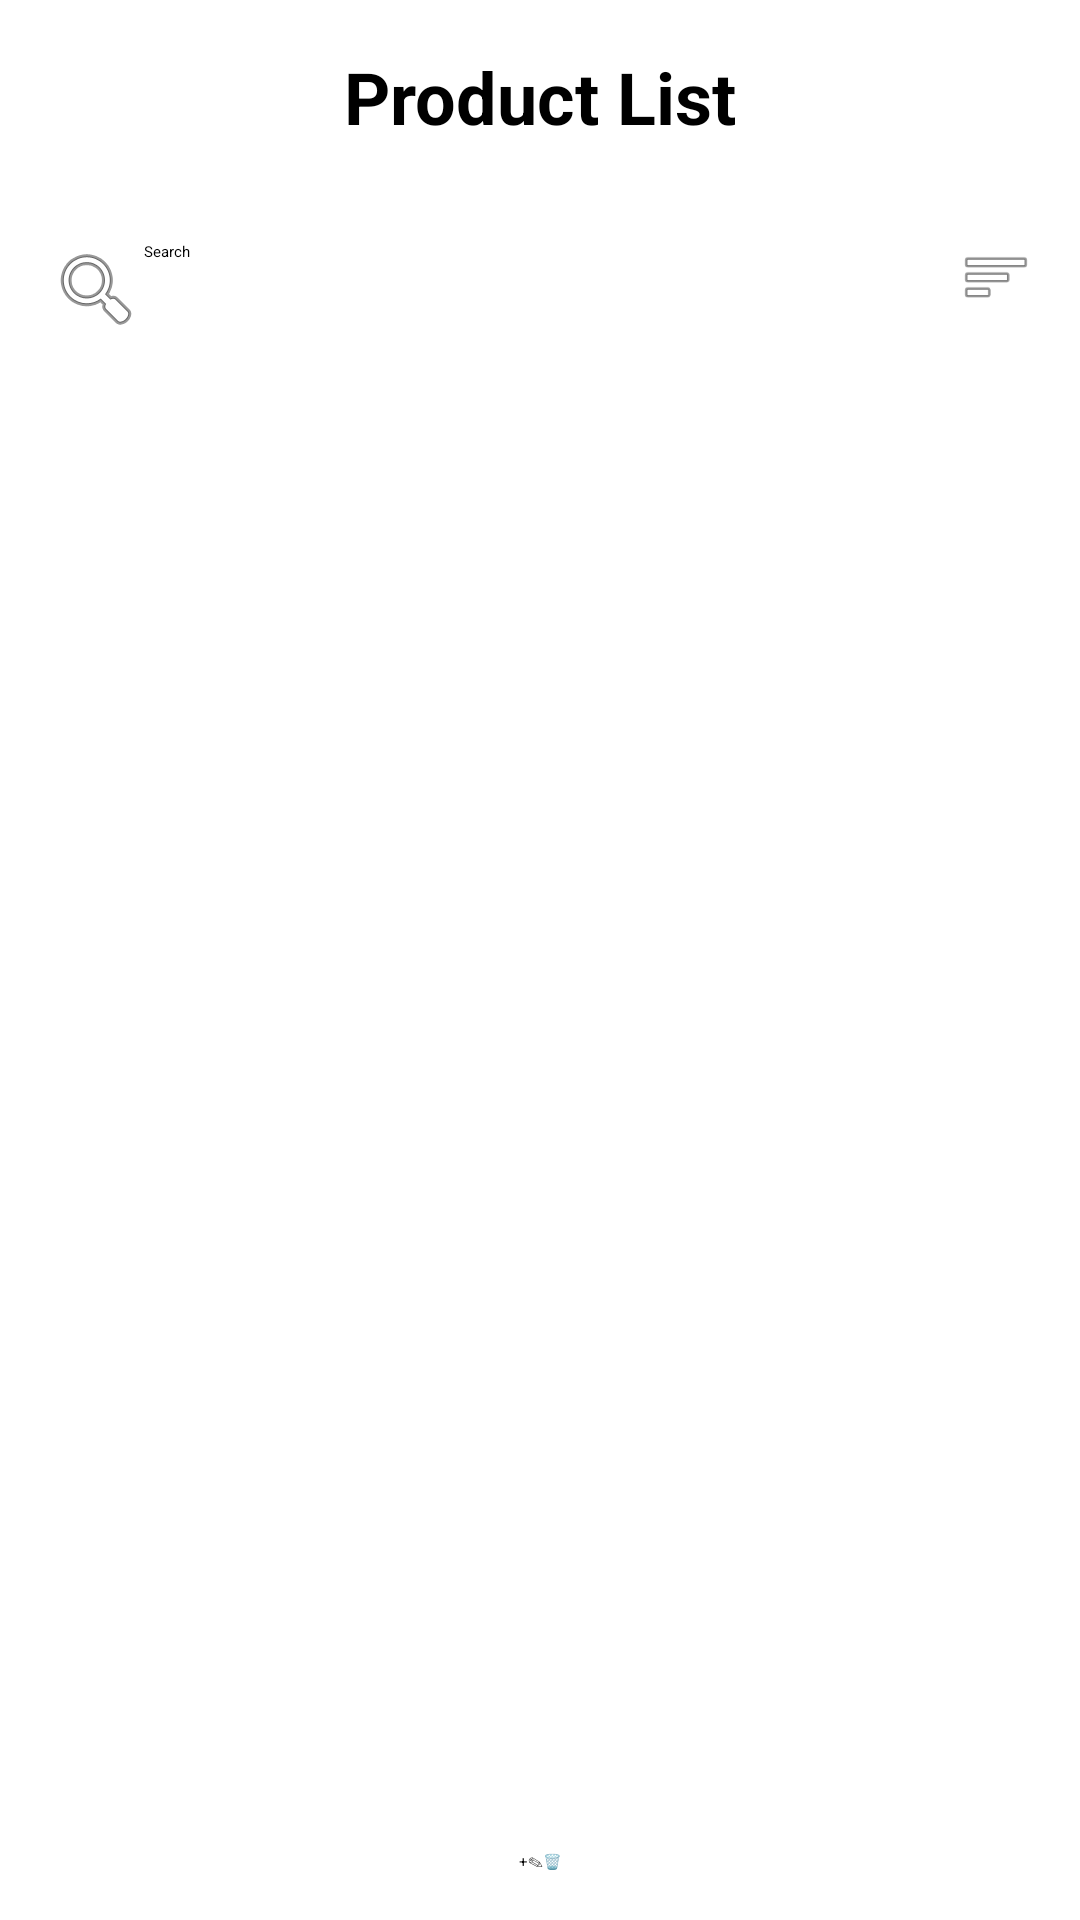

Icons on this 1080px x 1920px Android screen, each with the point to tap as (x,y):
sort by size: (996,277)
